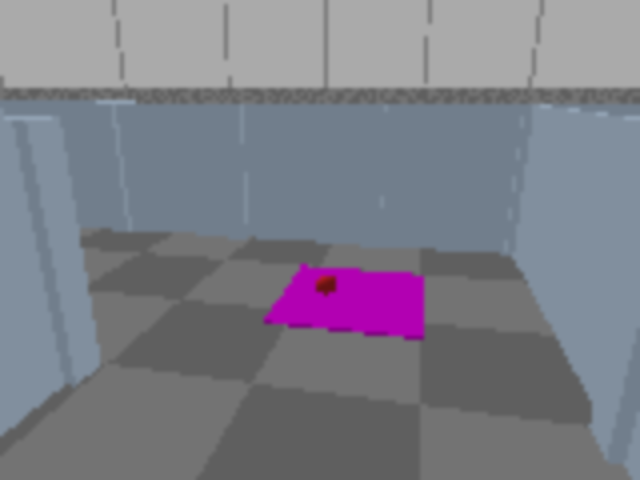goal_zone: (263, 266, 424, 340)
puck: (314, 270, 339, 299)
